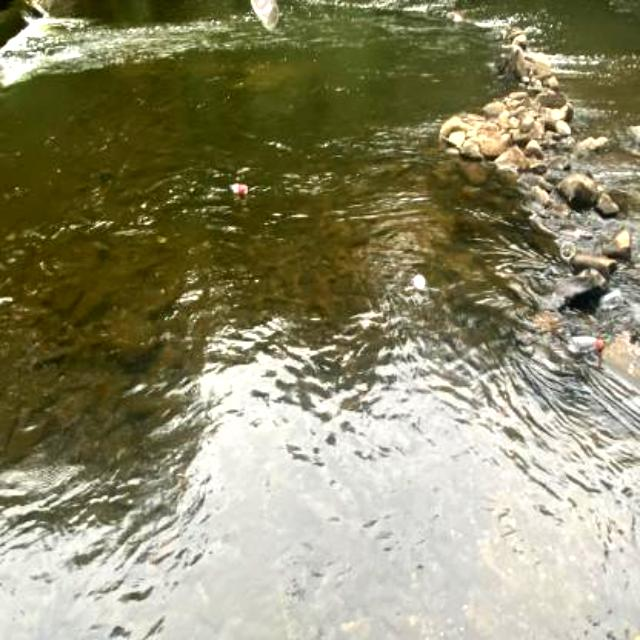Plastic: (244, 0, 285, 32), (562, 332, 608, 353), (224, 178, 252, 202)
